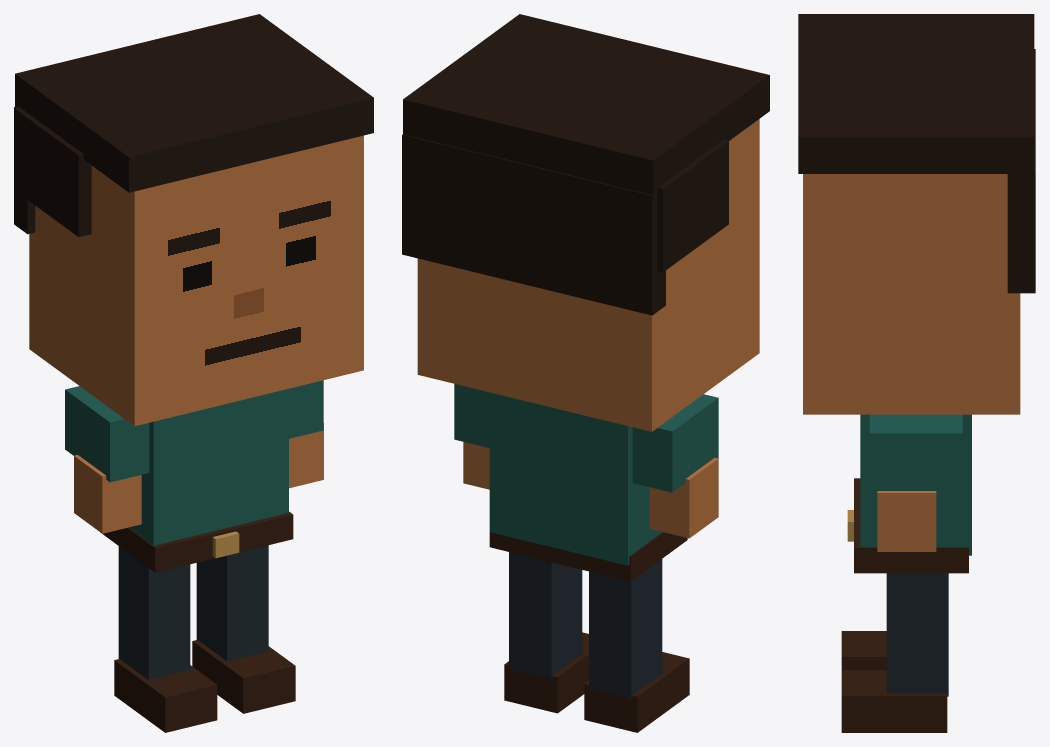
Rendered from avatar-quadrado-01.obj.
3 views of the same model, side by side, from view 1: azimuth 30°, elevation 25°; view 2: azimuth 150°, elevation 25°; view 3: azimuth 270°, elevation 25° (orthographic). The views are drawn at different scales.
Parts seen in each view (by area): view 1: avatar-quadrado-01; view 2: avatar-quadrado-01; view 3: avatar-quadrado-01.
Boxes of the visible parts, x1=… form: avatar-quadrado-01: x1=14, y1=14, x2=373, y2=732; avatar-quadrado-01: x1=402, y1=14, x2=769, y2=732; avatar-quadrado-01: x1=798, y1=14, x2=1035, y2=732.
Bounding box in the file's own units: 0.96 × 2.22 × 0.765.
Materials: 1 (1 with a texture image).
